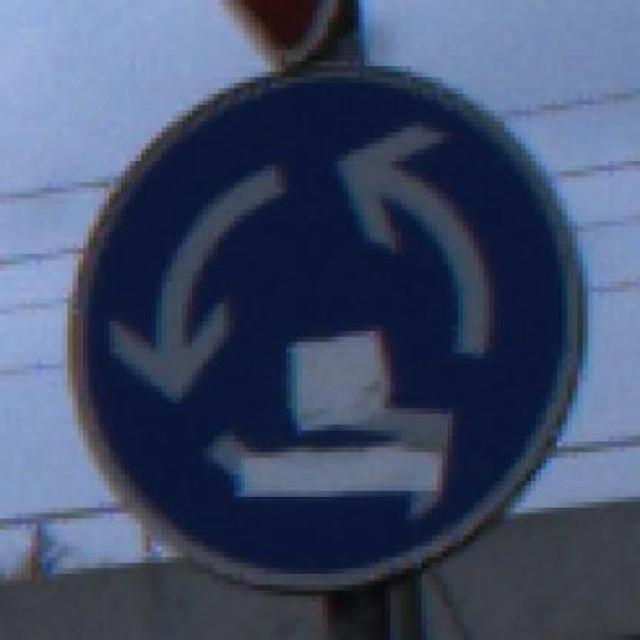Round-About: (21, 55, 619, 596)
